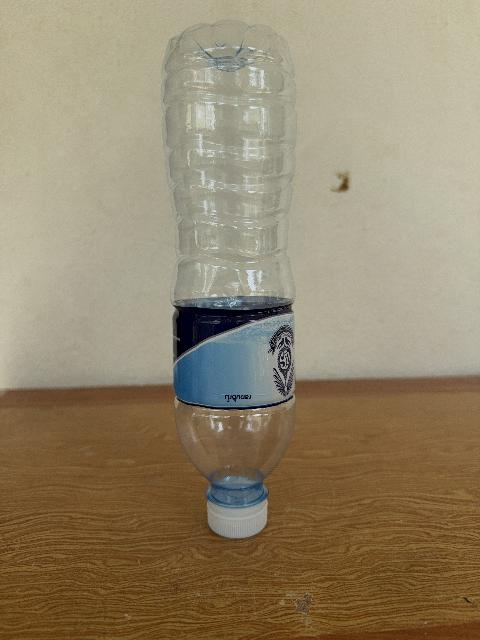bottle: (161, 21, 295, 537)
